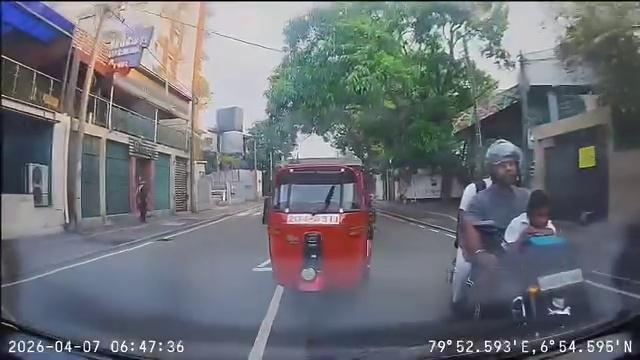no helmet: (523, 184, 562, 233)
number plate: (279, 209, 345, 230)
